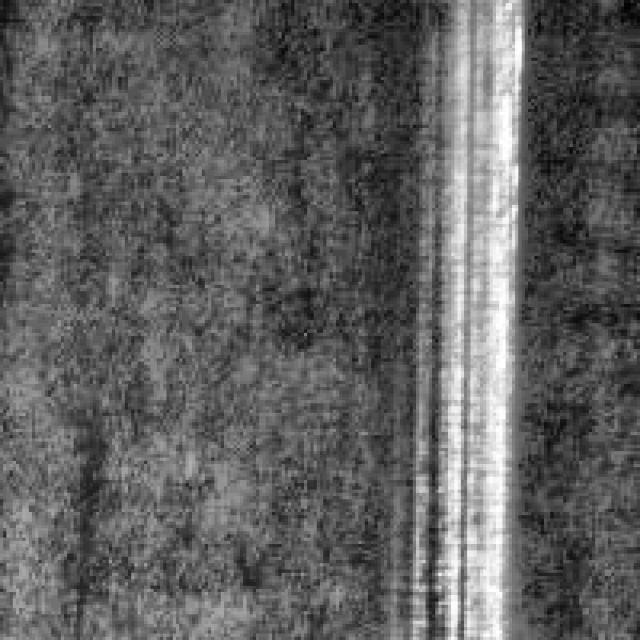Inclusion: (425, 0, 518, 630)
